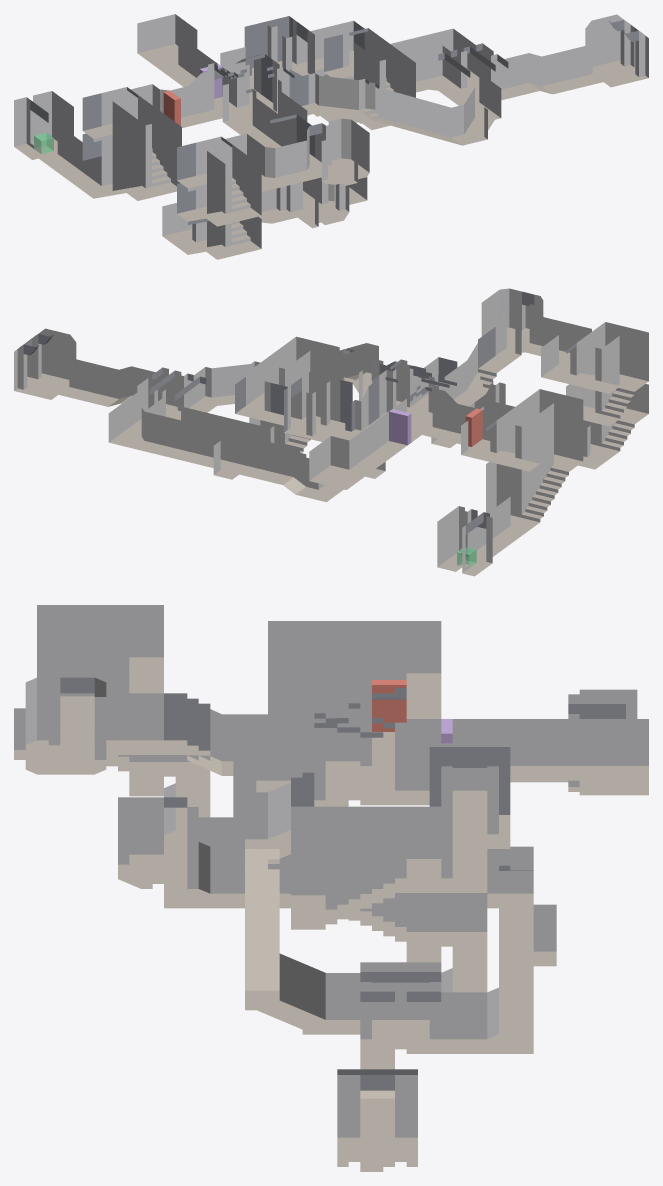
File: research_11.glb
The picture shows the model from 3 angles, top to bottom: view 1: azimuth 30°, elevation 25°; view 2: azimuth 150°, elevation 25°; view 3: azimuth 270°, elevation 25°; orthographic projection. The views are drawn at different scales.
Parts seen in each view (by area): view 1: room:7, room:9, corridor:10, corridor:2, room:8, corridor:3, room:4, corridor:4, room:2, room:0, room:6, corridor:0 (+21 smaller); view 2: room:7, corridor:11, room:9, corridor:2, room:8, corridor:10, corridor:3, corridor:0, room:4, corridor:4, room:0, room:2 (+18 smaller); view 3: room:8, corridor:11, corridor:10, room:7, corridor:2, room:9, corridor:0, room:3, corridor:5, corridor:9, room:4, room:6 (+15 smaller).
Part boxes in pixels (x1,y1,x2,y2): room:7: (82,87,181,200); room:9: (177,136,261,259); corridor:10: (302,73,501,145); corridor:2: (220,16,368,89); room:8: (324,28,415,130); corridor:3: (497,44,602,98); room:4: (585,14,648,87); corridor:4: (221,133,317,191); room:2: (14,91,73,161); room:0: (307,118,369,184); room:6: (137,14,197,69); corridor:0: (238,98,322,165); room:7: (486,389,583,530); corridor:11: (108,393,385,502); room:9: (566,322,648,458); corridor:2: (235,372,361,441); room:8: (249,336,339,452); corridor:10: (187,343,385,412); corridor:3: (59,357,162,406); corridor:0: (438,321,521,406); room:4: (14,328,76,399); corridor:4: (525,315,591,383); room:0: (481,288,543,353); room:2: (437,506,491,576); room:8: (291,806,441,962); corridor:11: (164,841,556,1053); corridor:10: (245,772,360,1034); room:7: (268,621,441,714); corridor:2: (429,743,510,892); room:9: (37,605,163,796); corridor:0: (106,693,314,775); room:3: (360,962,441,1053); corridor:5: (406,719,579,780); corridor:9: (198,733,314,846); room:4: (337,1075,417,1166); room:6: (579,719,648,795).
Size of the model in its own units: 86 by 17 by 55.
